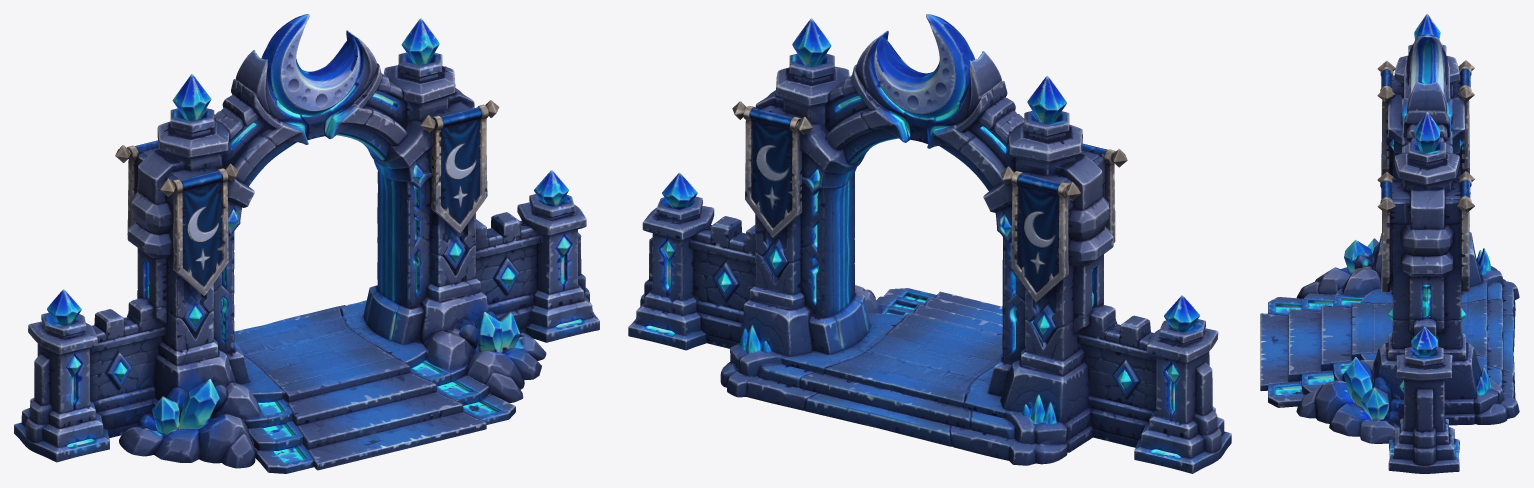
File: moon_gate.glb
The picture shows the model from 3 angles, left to right: view 1: azimuth 30°, elevation 25°; view 2: azimuth 150°, elevation 25°; view 3: azimuth 270°, elevation 25°; orthographic projection. The views are drawn at different scales.
Parts seen in each view (by area): view 1: frame; view 2: frame; view 3: frame.
Boxes of the visible parts, x1,y1,x2,y2 form: frame: [14, 14, 599, 473]; frame: [628, 14, 1231, 473]; frame: [1260, 14, 1519, 473].
Bounding box in the file's own units: 14.7 × 9.19 × 6.76.
1 material, 1 textured.
